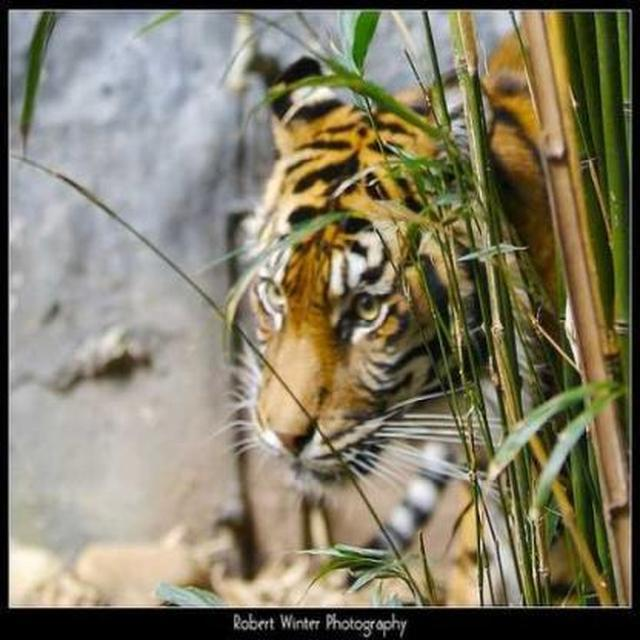tiger: (217, 50, 576, 597)
